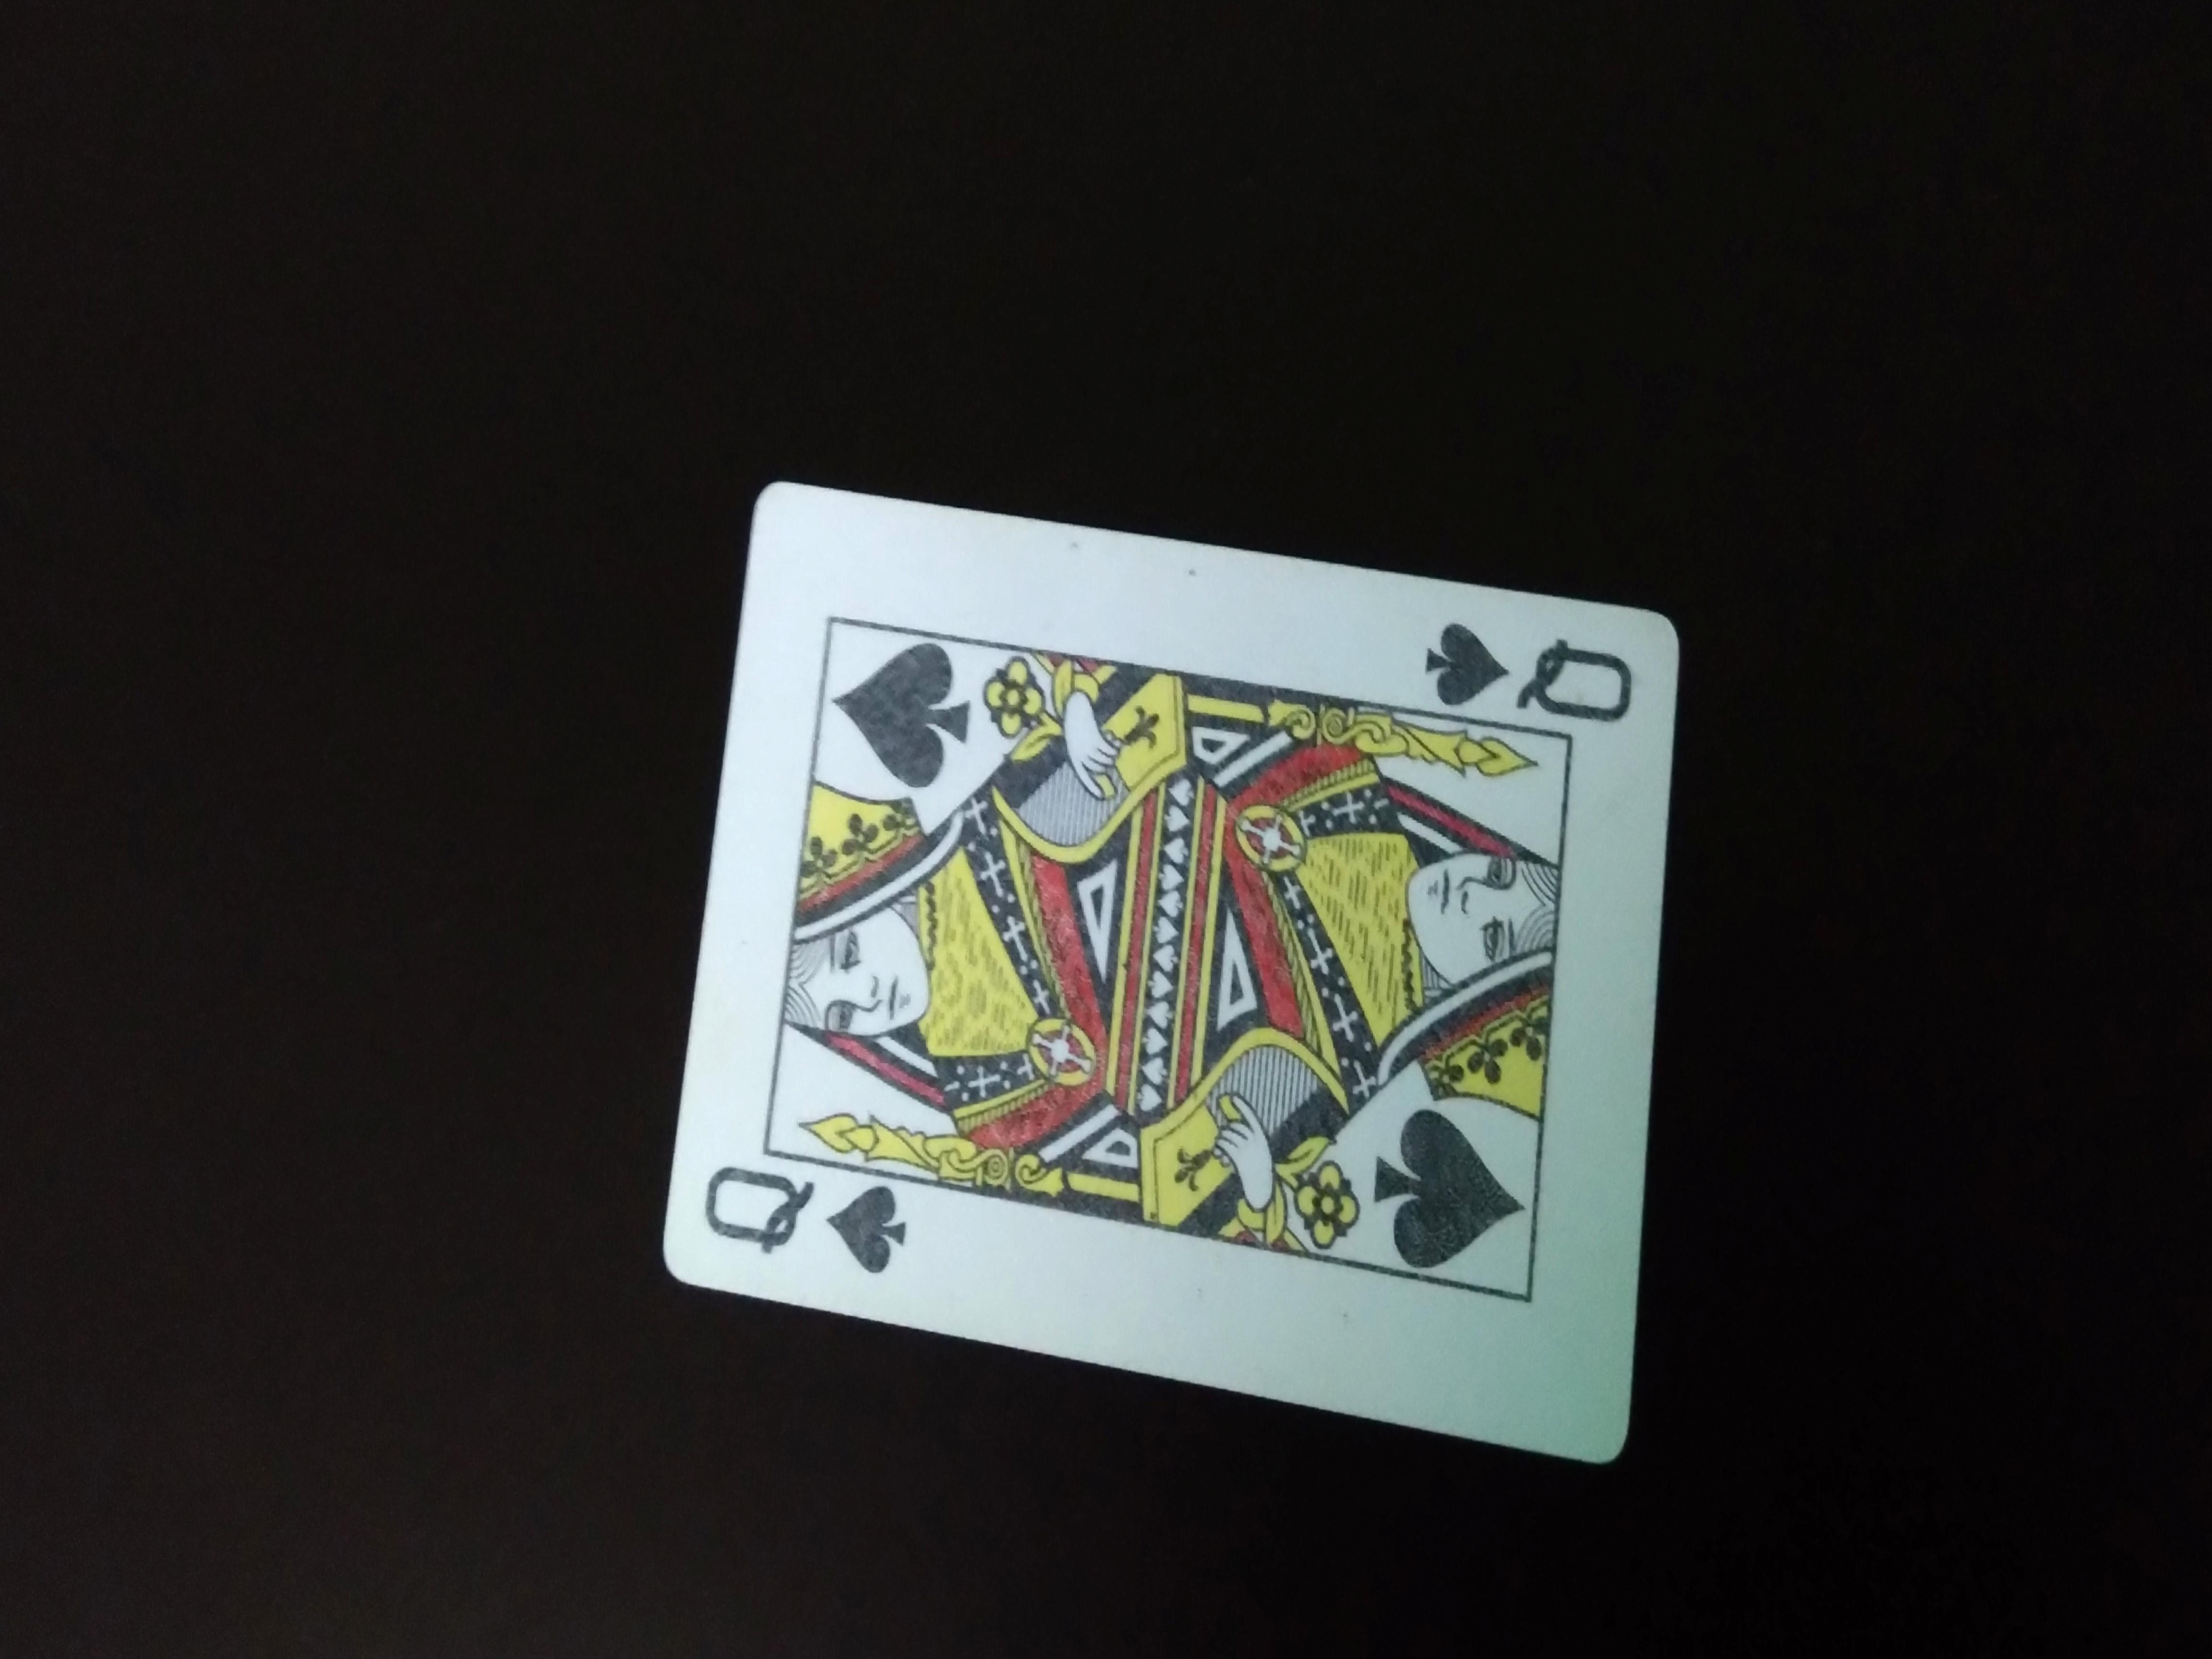QS: (669, 1121, 928, 1293)
